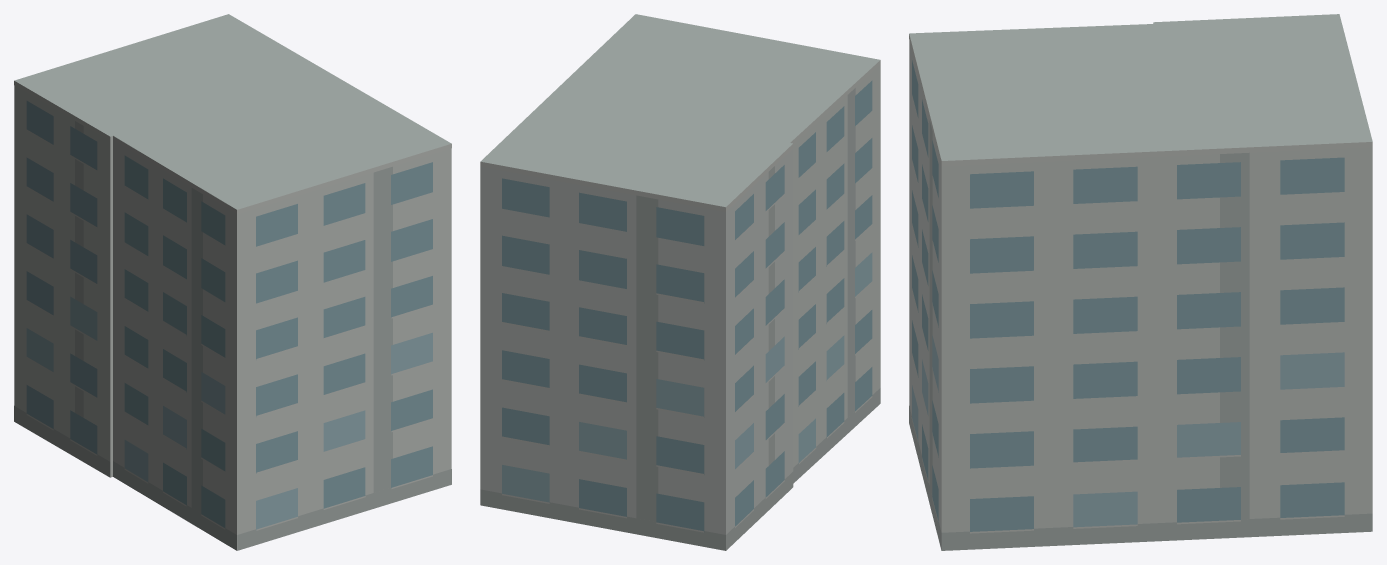
File: survey-upis-32887687.glb
The picture shows the model from 3 angles, left to right: view 1: azimuth 30°, elevation 25°; view 2: azimuth 150°, elevation 25°; view 3: azimuth 270°, elevation 25°; orthographic projection. The views are drawn at different scales.
Visible parts, largest first — view 1: survey-upis-32887687.tmp; view 2: survey-upis-32887687.tmp; view 3: survey-upis-32887687.tmp.
Part boxes in pixels (left/top/right/bottom): survey-upis-32887687.tmp: left=14, top=14, right=451, bottom=550; survey-upis-32887687.tmp: left=480, top=14, right=880, bottom=550; survey-upis-32887687.tmp: left=909, top=14, right=1372, bottom=550.
Size of the model in its own units: 14.09 by 17.4 by 18.77.
